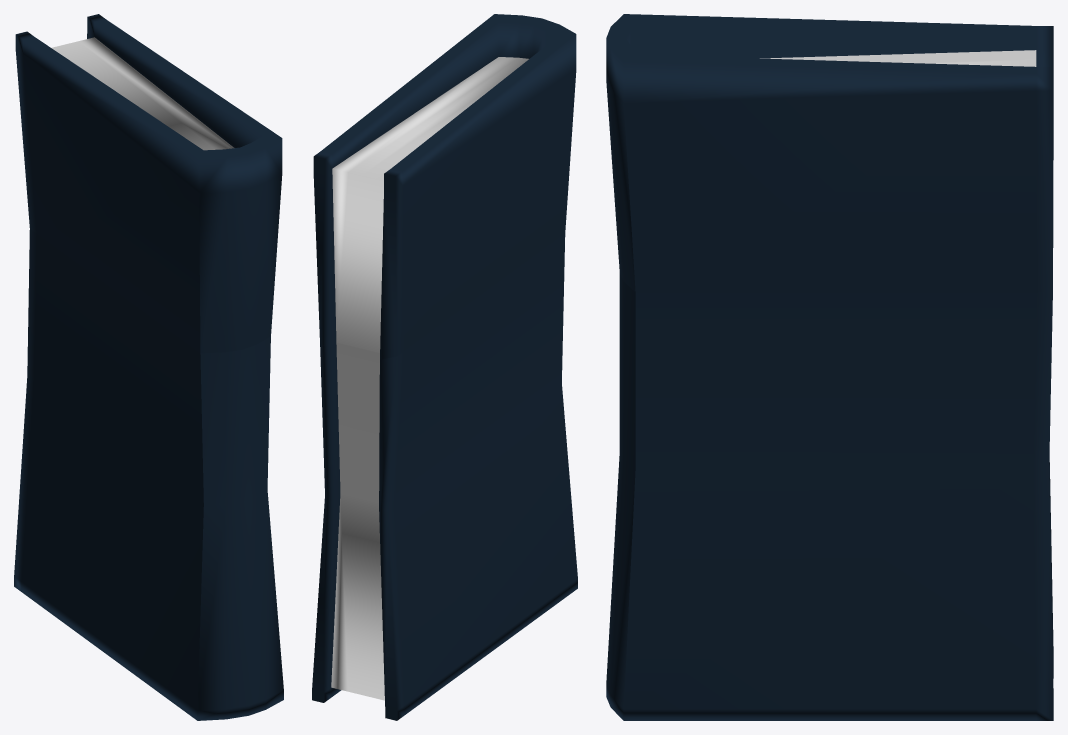
File: BlueBook.fbx
3 views of the same model, side by side, from view 1: azimuth 30°, elevation 25°; view 2: azimuth 150°, elevation 25°; view 3: azimuth 270°, elevation 25° (orthographic). The views are drawn at different scales.
Parts seen in each view (by area): view 1: BlueBook; view 2: BlueBook; view 3: BlueBook.
Boxes of the visible parts, box(x1,y1,x2,y2) form: BlueBook: box(14, 14, 283, 720); BlueBook: box(312, 14, 577, 720); BlueBook: box(606, 14, 1053, 720).
Bounding box in the file's own units: 149 × 930 × 573.
